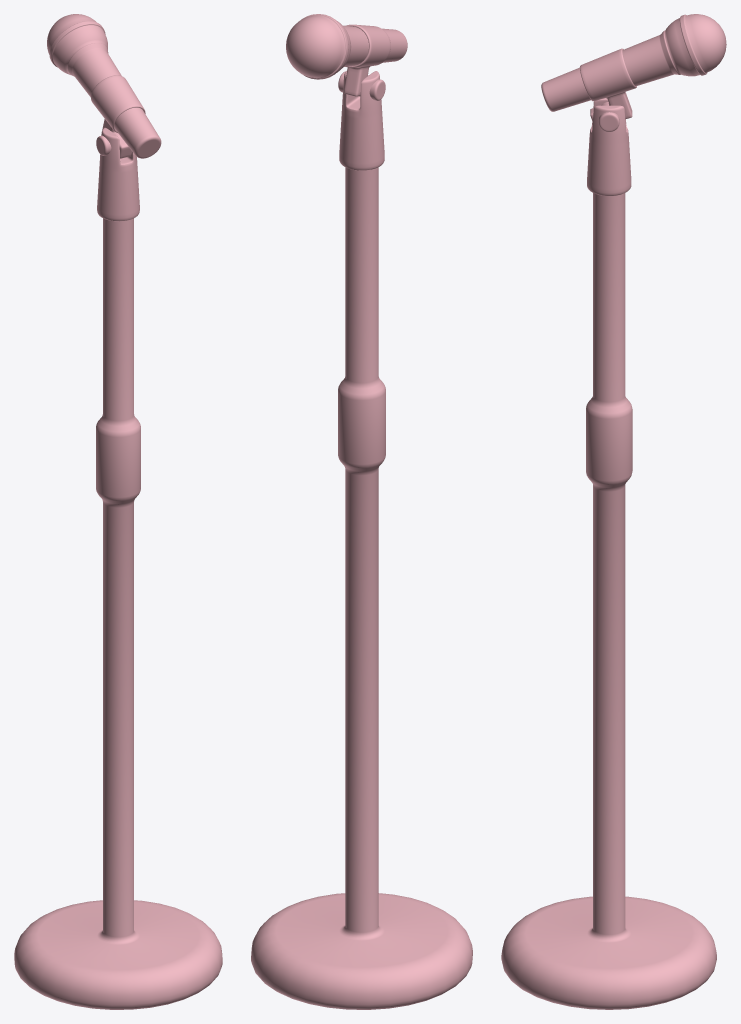
File: Microphone.fbx
3 views of the same model, side by side, from view 1: azimuth 30°, elevation 25°; view 2: azimuth 150°, elevation 25°; view 3: azimuth 270°, elevation 25° (orthographic). The views are drawn at different scales.
Visible parts, largest first — view 1: MicStand, Microphone, MicGrip; view 2: MicStand, Microphone, MicGrip; view 3: MicStand, Microphone, MicGrip.
Boxes of the visible parts, x1,y1,x2,y2 form: MicStand: (14,127,222,1009); Microphone: (47,14,161,158); MicGrip: (91,75,145,158); MicStand: (251,71,472,1009); Microphone: (286,14,407,79); MicGrip: (338,24,390,100); MicStand: (501,98,716,1009); Microphone: (541,14,726,111); MicGrip: (579,48,636,131).
Size of the model in its own units: 1.6 by 1.67 by 7.79.
